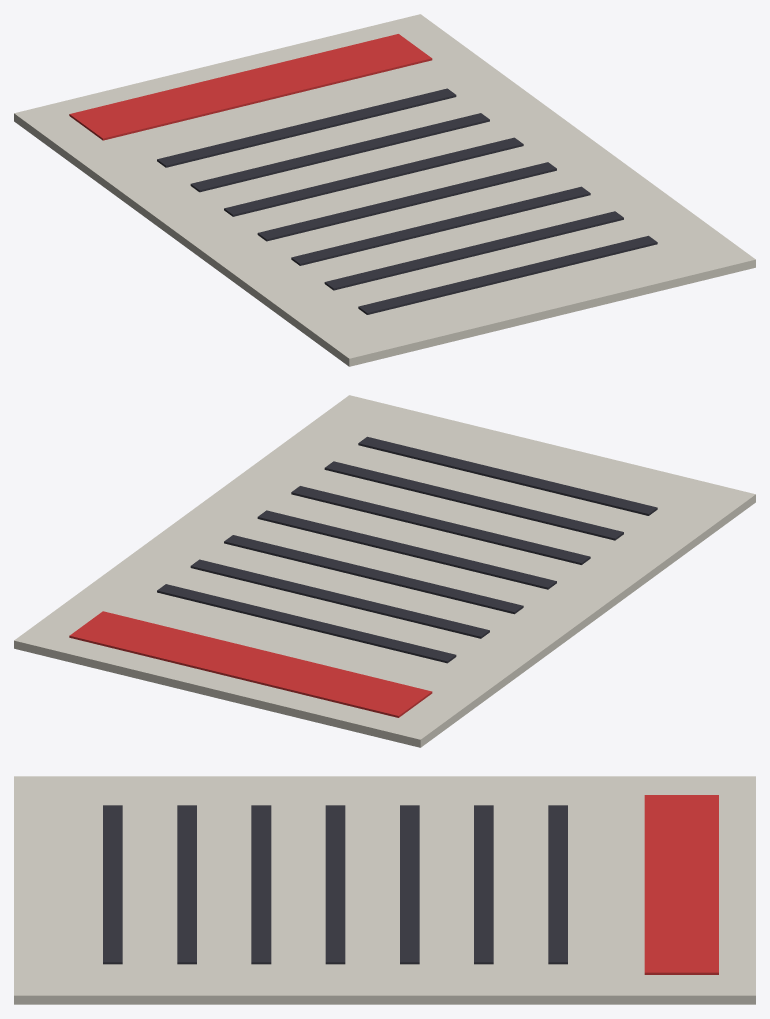
The model's file is client_list.glb.
The picture shows the model from 3 angles, top to bottom: view 1: azimuth 30°, elevation 25°; view 2: azimuth 150°, elevation 25°; view 3: azimuth 270°, elevation 25°; orthographic projection. The views are drawn at different scales.
Parts seen in each view (by area): view 1: sheet_paper, lines_ink (×7), band_ink_red; view 2: sheet_paper, lines_ink (×7), band_ink_red; view 3: sheet_paper, lines_ink (×7), band_ink_red.
Boxes of the visible parts, box(x1,y1,x2,y2) form: sheet_paper: box(14, 14, 755, 366); lines_ink (×7): box(157, 88, 657, 314); band_ink_red: box(69, 34, 432, 140); sheet_paper: box(14, 395, 755, 747); lines_ink (×7): box(157, 436, 657, 663); band_ink_red: box(69, 611, 432, 717); sheet_paper: box(14, 776, 755, 1004); lines_ink (×7): box(103, 805, 567, 964); band_ink_red: box(644, 795, 718, 974).
Bounding box in the file's own units: 0.21 × 0.005 × 0.3.
